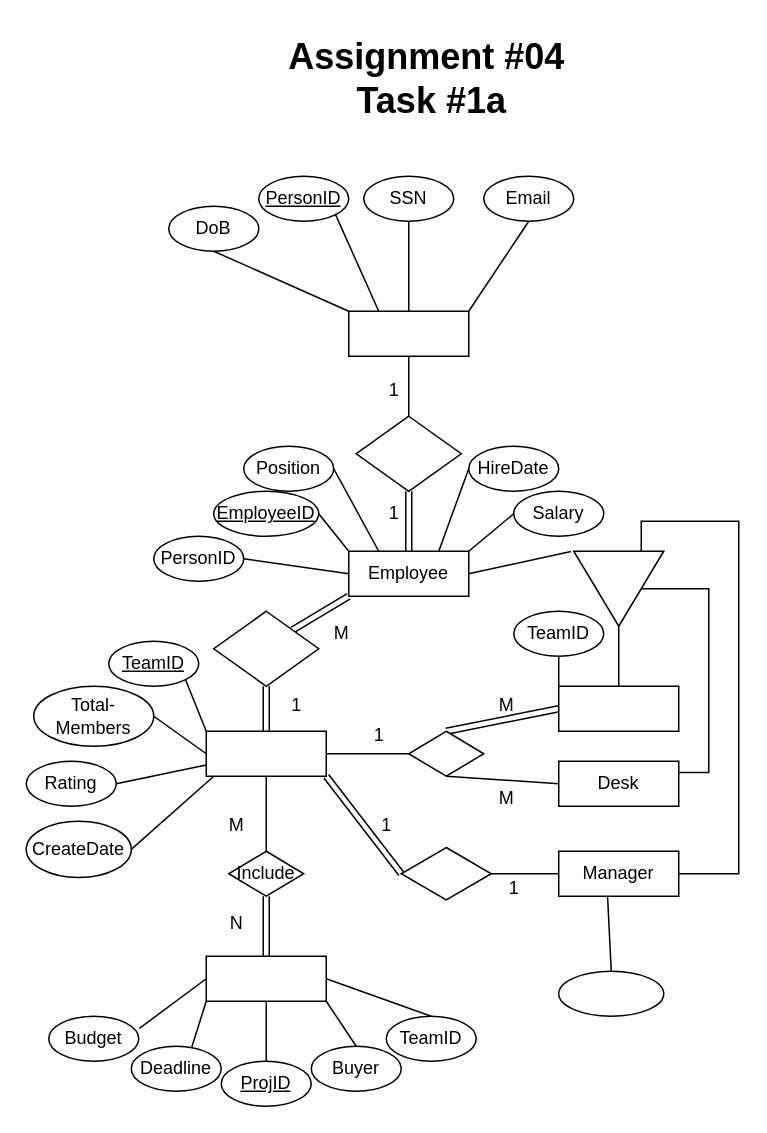
The diagram is 767 pixels wide and 1133 high, and some of its shapes have lost their labels. The box of each missing label's shape, as (x1, y1, x2, y2) in pixels:
Feild: (557, 685, 679, 731)
Has: (212, 610, 319, 686)
Have: (407, 730, 484, 776)
IS: (355, 415, 461, 491)
ISA: (572, 550, 664, 626)
Manage: (400, 846, 491, 900)
ManagerID: (557, 970, 664, 1016)
Person: (347, 310, 469, 356)
Projects: (205, 955, 326, 1001)
Team: (205, 730, 326, 776)
